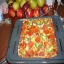pizza: (21, 19, 59, 58)
